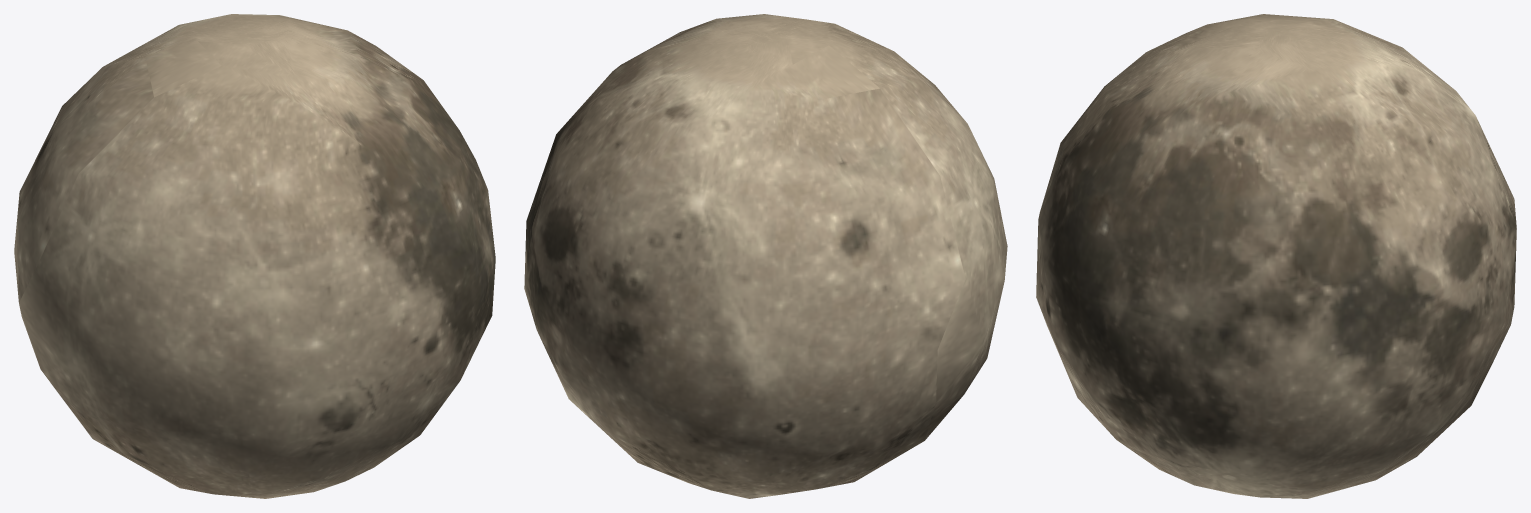
The model's file is alien_moon2.fbx.
3 views of the same model, side by side, from view 1: azimuth 30°, elevation 25°; view 2: azimuth 150°, elevation 25°; view 3: azimuth 270°, elevation 25° (orthographic).
Visible parts, largest first — view 1: moon; view 2: moon; view 3: moon.
Part boxes in pixels (bbox=[...]): moon: bbox=[14, 14, 495, 498]; moon: bbox=[524, 14, 1007, 498]; moon: bbox=[1036, 14, 1516, 498].
Bounding box in the file's own units: 2151 × 2128 × 2148.
Materials: 1 (1 with a texture image).
